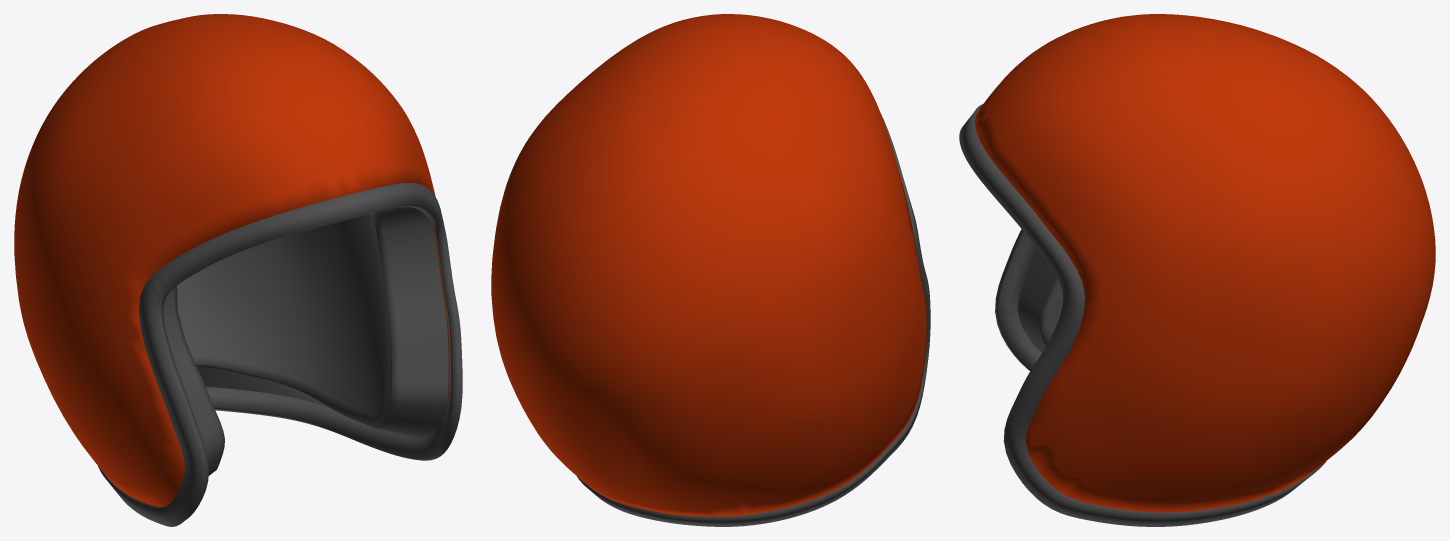
The model's file is MotoKaciga.fbx.
The picture shows the model from 3 angles, left to right: view 1: azimuth 30°, elevation 25°; view 2: azimuth 150°, elevation 25°; view 3: azimuth 270°, elevation 25°; orthographic projection.
Visible parts, largest first — view 1: kaciga 01, kaciga 01.001, kaciga 01.002; view 2: kaciga 01, kaciga 01.002; view 3: kaciga 01, kaciga 01.002, kaciga 01.001.
Part boxes in pixels (box(x1,y1,x2,y2)): kaciga 01: box(14, 14, 449, 506); kaciga 01.001: box(163, 207, 448, 475); kaciga 01.002: box(98, 182, 462, 526); kaciga 01: box(491, 14, 926, 516); kaciga 01.002: box(577, 114, 930, 526); kaciga 01: box(975, 14, 1435, 512); kaciga 01.002: box(959, 104, 1326, 526); kaciga 01.001: box(1018, 249, 1063, 353).
Size of the model in its own units: 42.19 by 48.94 by 48.23.
